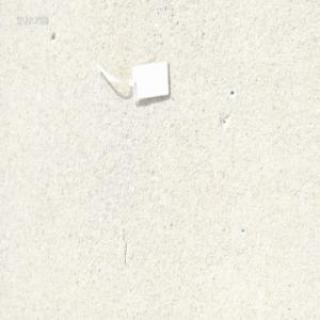LuggageTagtrack_idkeyframe: (93, 55, 170, 104)
